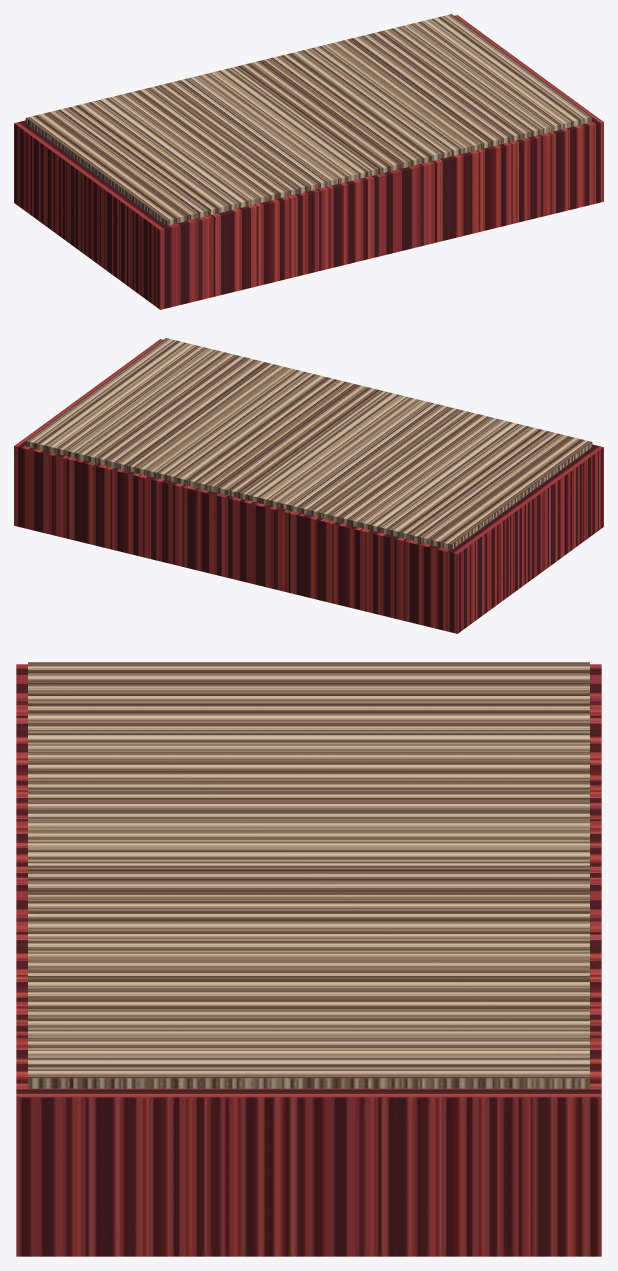
File: basinTerrace.glb
3 views of the same model, one above another, from view 1: azimuth 30°, elevation 25°; view 2: azimuth 150°, elevation 25°; view 3: azimuth 270°, elevation 25° (orthographic). The views are drawn at different scales.
Parts seen in each view (by area): view 1: LOD0._kind_trim_band_coral_repeat_2; view 2: LOD0._kind_trim_band_coral_repeat_2; view 3: LOD0._kind_trim_band_coral_repeat_2.
Part boxes in pixels (box(x1,y1,x2,y2)): LOD0._kind_trim_band_coral_repeat_2: box(14, 14, 603, 309); LOD0._kind_trim_band_coral_repeat_2: box(14, 338, 603, 633); LOD0._kind_trim_band_coral_repeat_2: box(16, 662, 601, 1256).
Size of what is drawn, in the model's own units: 70 by 12.8 by 40.
Materials: 1 (1 with a texture image).
